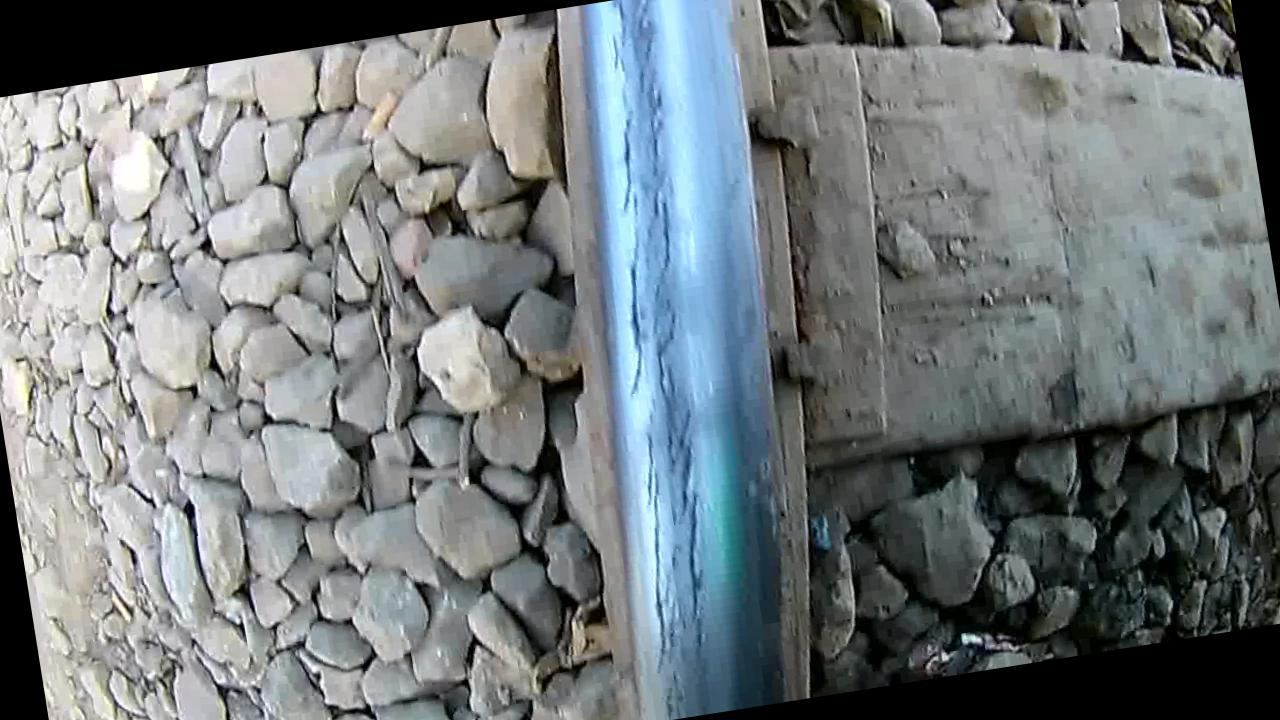normal_track: (552, 0, 790, 720)
